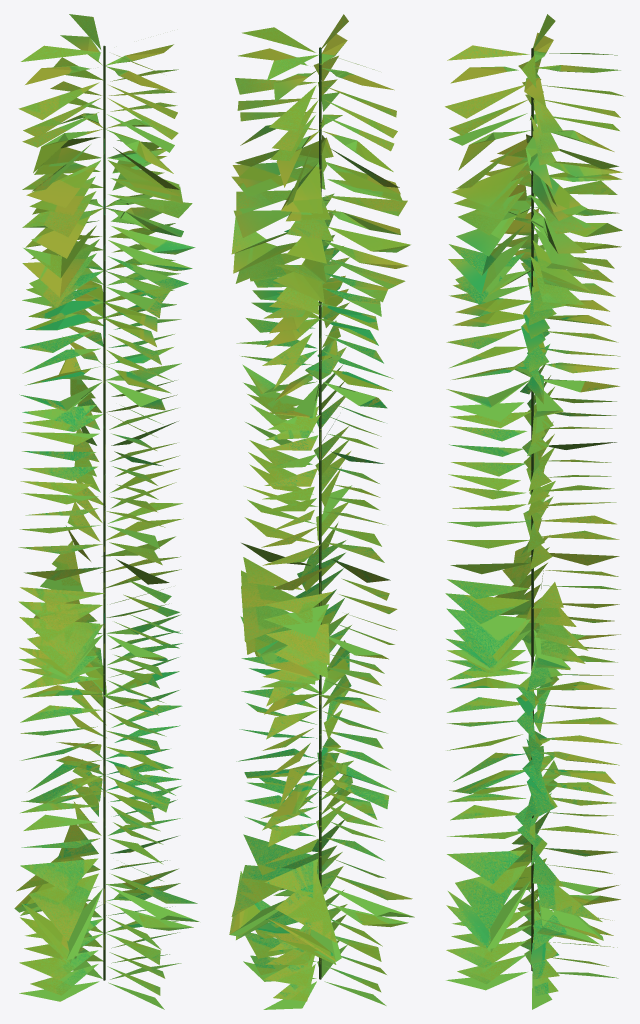
Rendered from kelp.obj.
The picture shows the model from 3 angles, left to right: view 1: azimuth 30°, elevation 25°; view 2: azimuth 150°, elevation 25°; view 3: azimuth 270°, elevation 25°; orthographic projection.
Visible parts, largest first — view 1: Cylinder; view 2: Cylinder; view 3: Cylinder.
Boxes of the visible parts, x1,y1,x2,y2 form: Cylinder: (14, 14, 199, 1009); Cylinder: (229, 14, 414, 1009); Cylinder: (445, 14, 623, 1009).
Size of the model in its own units: 18.18 by 101 by 17.8.
Materials: 1 (1 with a texture image).
